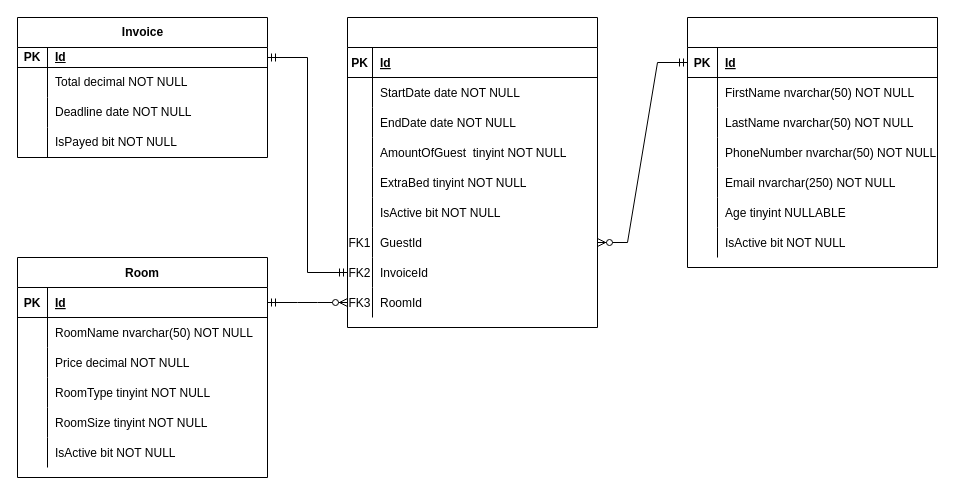
Image size: 955x495. Some labels were removed from this diagram. Here are the shapes that lost their labels. From the top down, the box of each, then its label:
(686, 16, 938, 268): Guest
(346, 16, 598, 328): Booking
